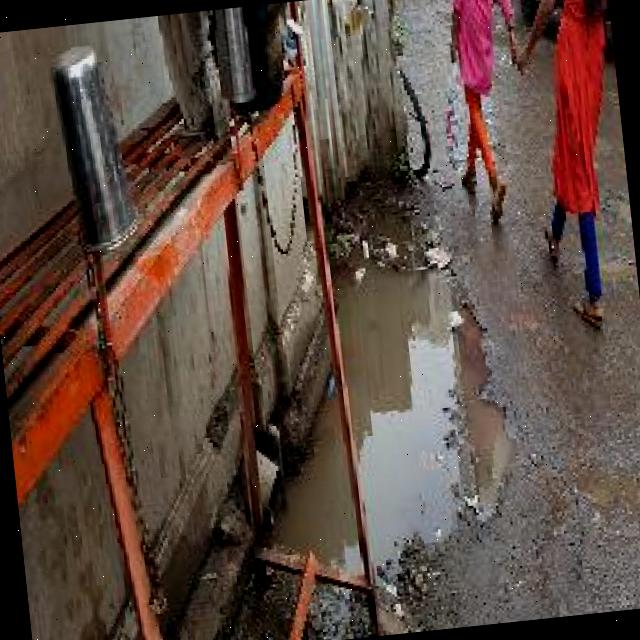stagnation: (323, 217, 536, 574)
